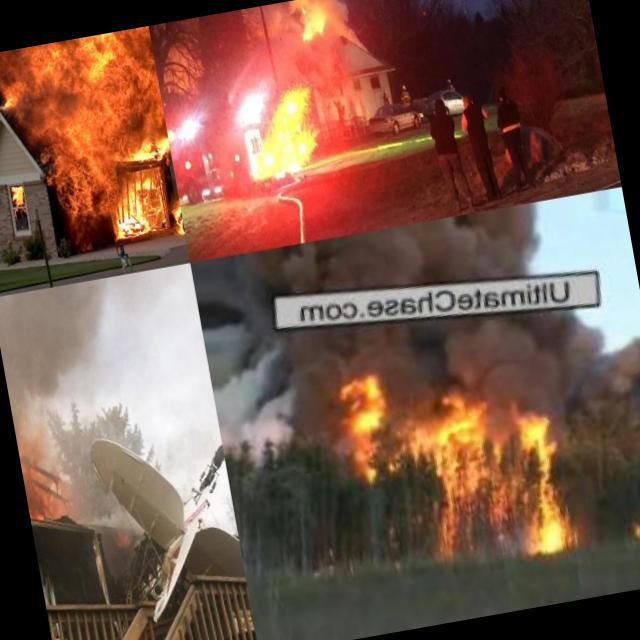fire: (332, 352, 578, 584), (19, 26, 180, 228), (293, 0, 338, 44), (23, 472, 58, 520), (627, 509, 640, 553)
smoke: (0, 278, 131, 478), (205, 332, 348, 483)
